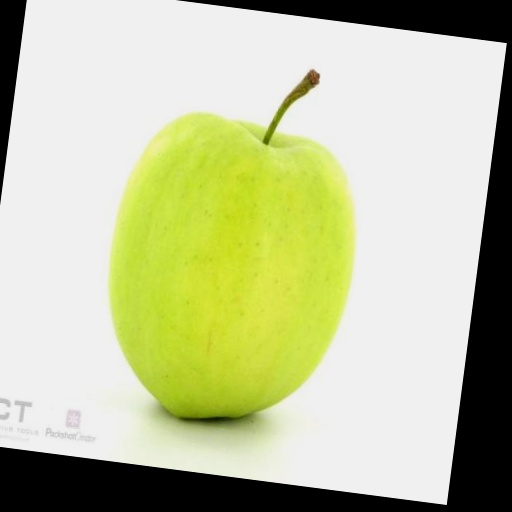fruit: (109, 71, 354, 417)
